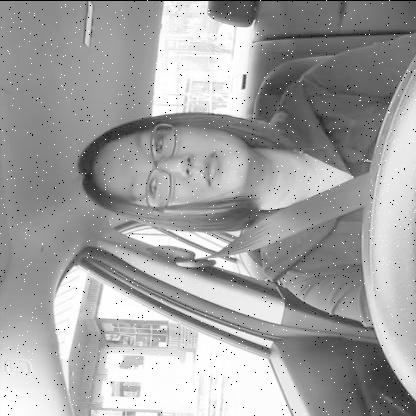seatbelt: (69, 90, 369, 282)
